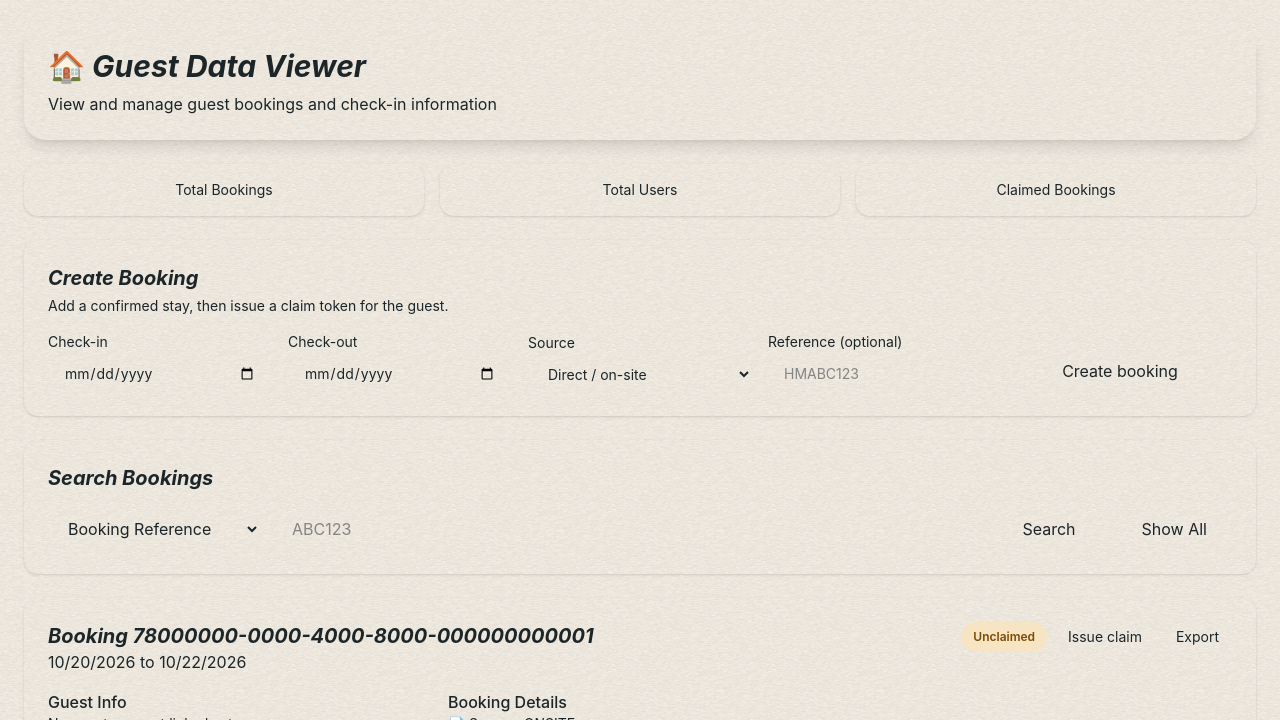
Scenario: admin claim token copy › reports a failed copy instead of leaving an unhandled rejection
The image size is (1280, 720).
Click the button "Issue claim": (1105, 637) left=1055, top=622, right=1155, bottom=652
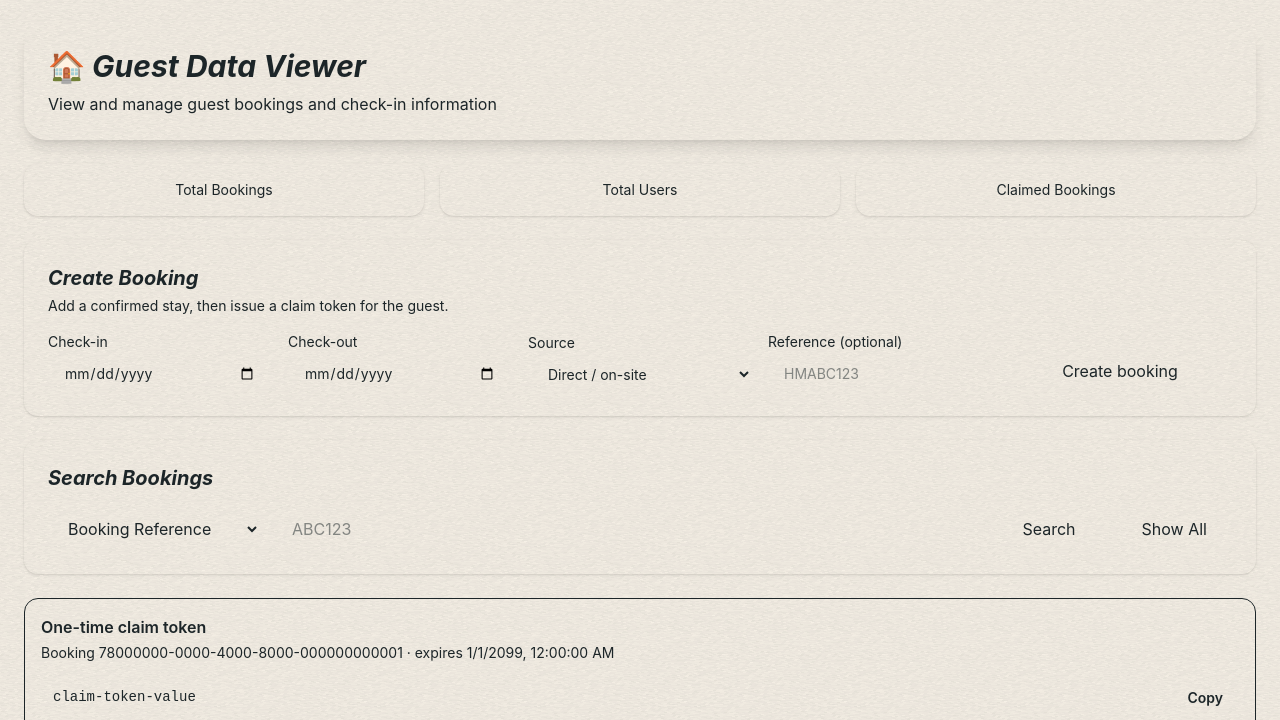
Now the text "claim-token-value" is shown, box left=53, top=689, right=196, bottom=705
Click the button "Copy": (1205, 697) left=1171, top=675, right=1239, bottom=719
(page scrolled)
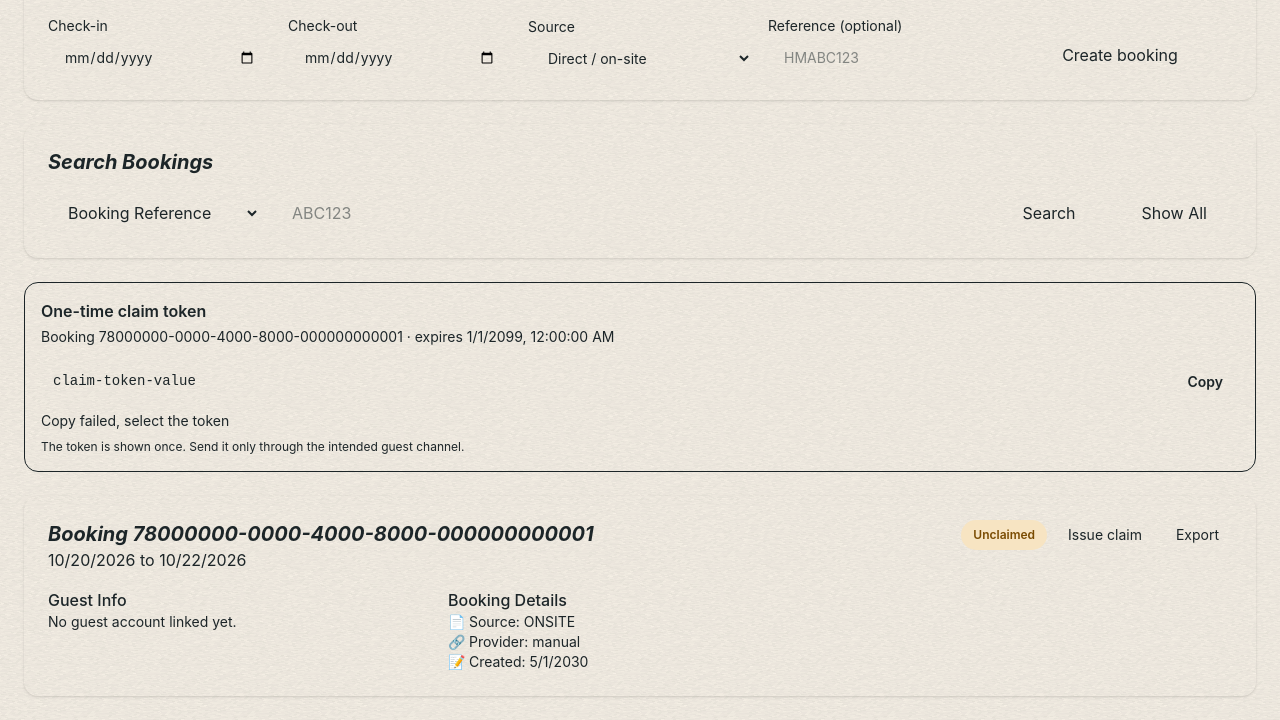
Now the text "Copy failed, select the token" is shown, box left=41, top=412, right=229, bottom=429
